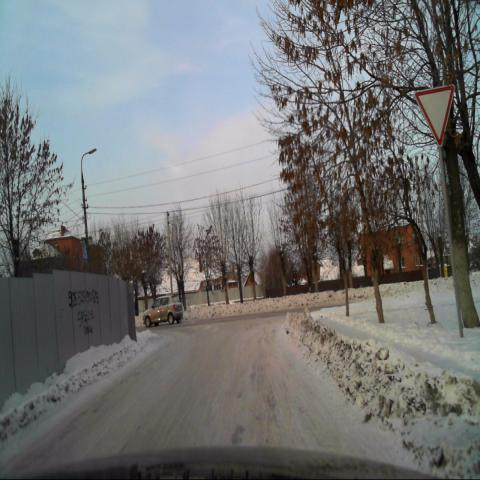2_4: (414, 83, 455, 148)
